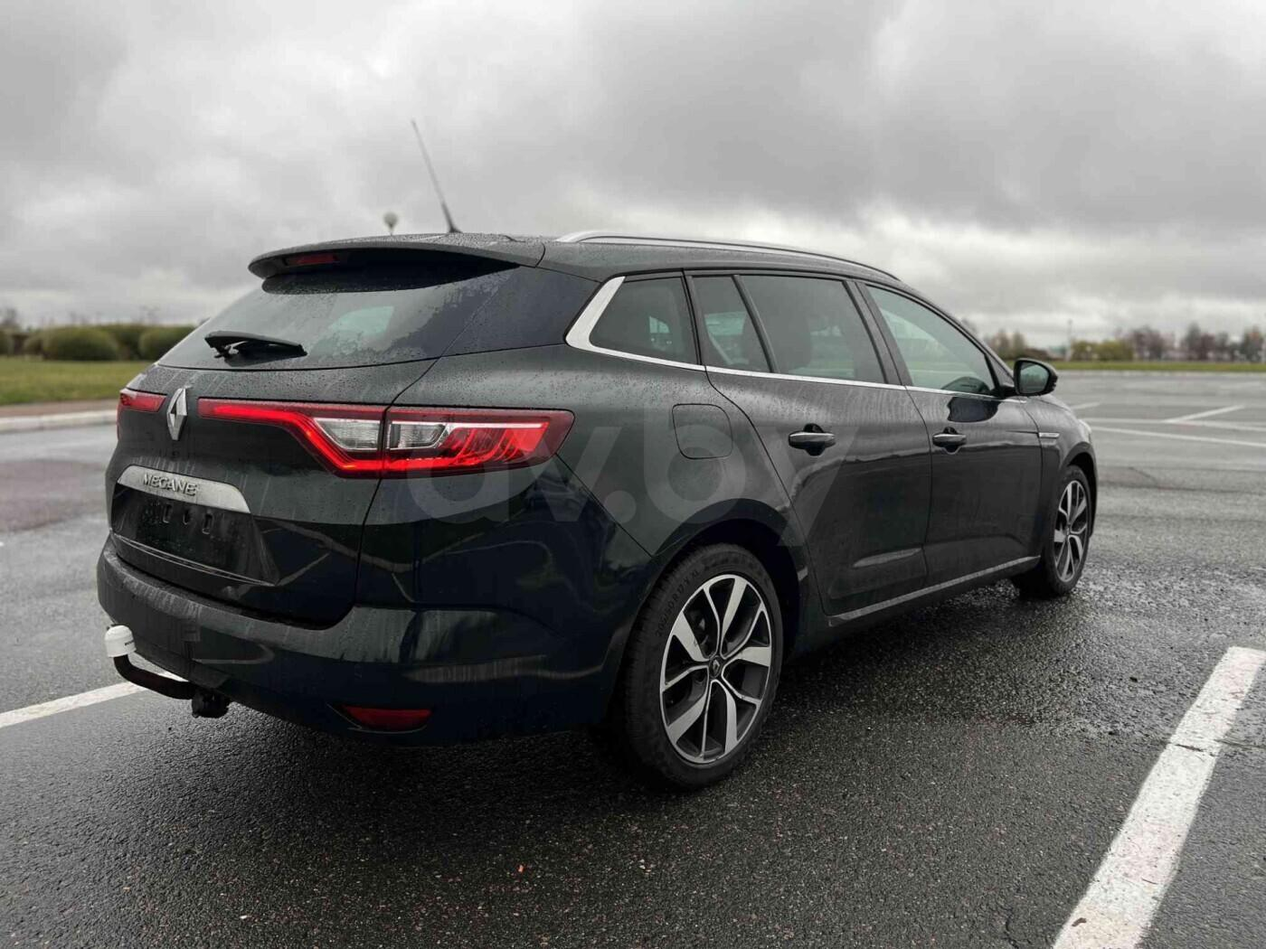Megane_2016-2020: (87, 222, 1108, 785)
